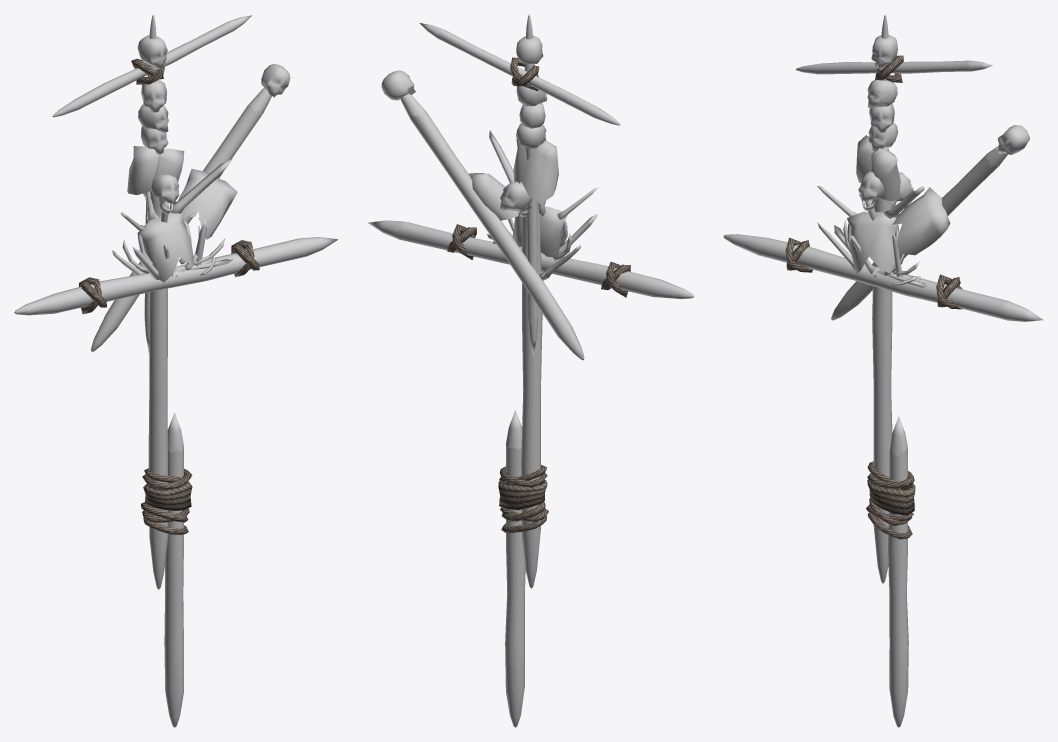
Rendered from Wood_SpikeBone_B.FBX.
The picture shows the model from 3 angles, left to right: view 1: azimuth 30°, elevation 25°; view 2: azimuth 150°, elevation 25°; view 3: azimuth 330°, elevation 25°; orthographic projection. The views are drawn at different scales.
Parts seen in each view (by area): view 1: Wood_SpikeBone_B; view 2: Wood_SpikeBone_B; view 3: Wood_SpikeBone_B.
Boxes of the visible parts, left/top/right/bottom form: Wood_SpikeBone_B: left=14, top=14, right=338, bottom=727; Wood_SpikeBone_B: left=368, top=14, right=694, bottom=727; Wood_SpikeBone_B: left=723, top=14, right=1042, bottom=727.
Bounding box in the file's own units: 255 × 538 × 53.52.
